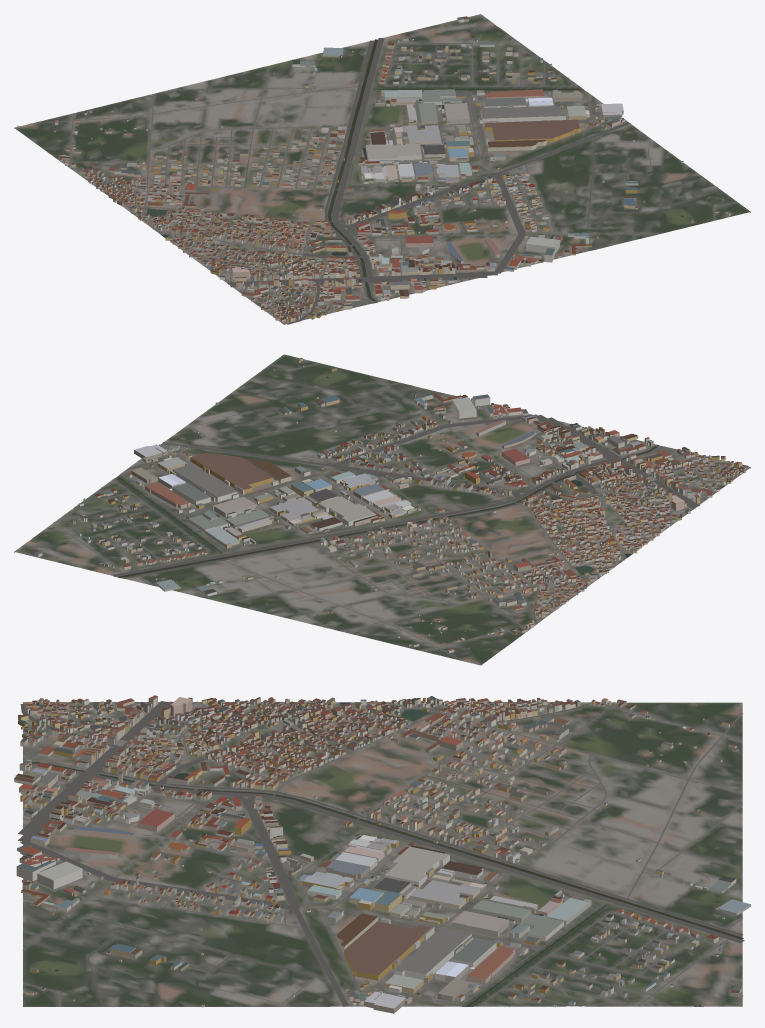
3 renders of one model, top to bottom at view 1: azimuth 30°, elevation 25°; view 2: azimuth 150°, elevation 25°; view 3: azimuth 270°, elevation 25°, orthographic. The views are drawn at different scales.
Parts seen in each view (by area): view 1: ground, buildings, roads, water; view 2: ground, buildings, roads, water; view 3: ground, buildings, roads, water.
Part boxes in pixels (left/top/right/bottom): ground: left=14, top=14, right=750, bottom=324; buildings: left=17, top=16, right=731, bottom=321; roads: left=30, top=15, right=736, bottom=324; water: left=147, top=25, right=683, bottom=302; ground: left=14, top=354, right=750, bottom=665; buildings: left=31, top=357, right=745, bottom=664; roads: left=16, top=363, right=748, bottom=661; water: left=30, top=376, right=659, bottom=577; ground: left=23, top=702, right=742, bottom=1006; buildings: left=14, top=695, right=750, bottom=1013; roads: left=18, top=701, right=744, bottom=1006; water: left=23, top=702, right=743, bottom=1006.
Size of the model in its own units: 1439 by 29.19 by 1436.
